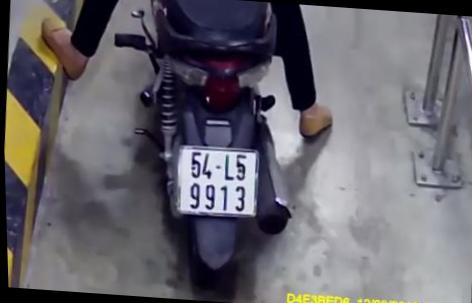LP: (170, 142, 262, 220)
